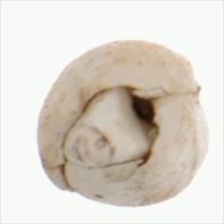L3: (62, 83, 159, 171)
L4: (36, 40, 208, 208)
